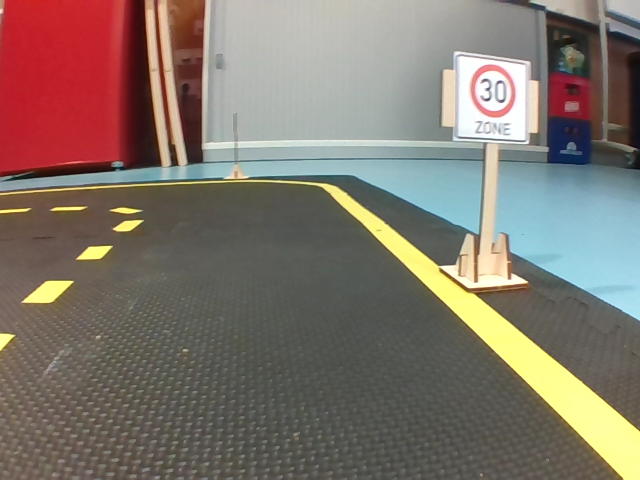stop: (26, 1, 256, 170)
